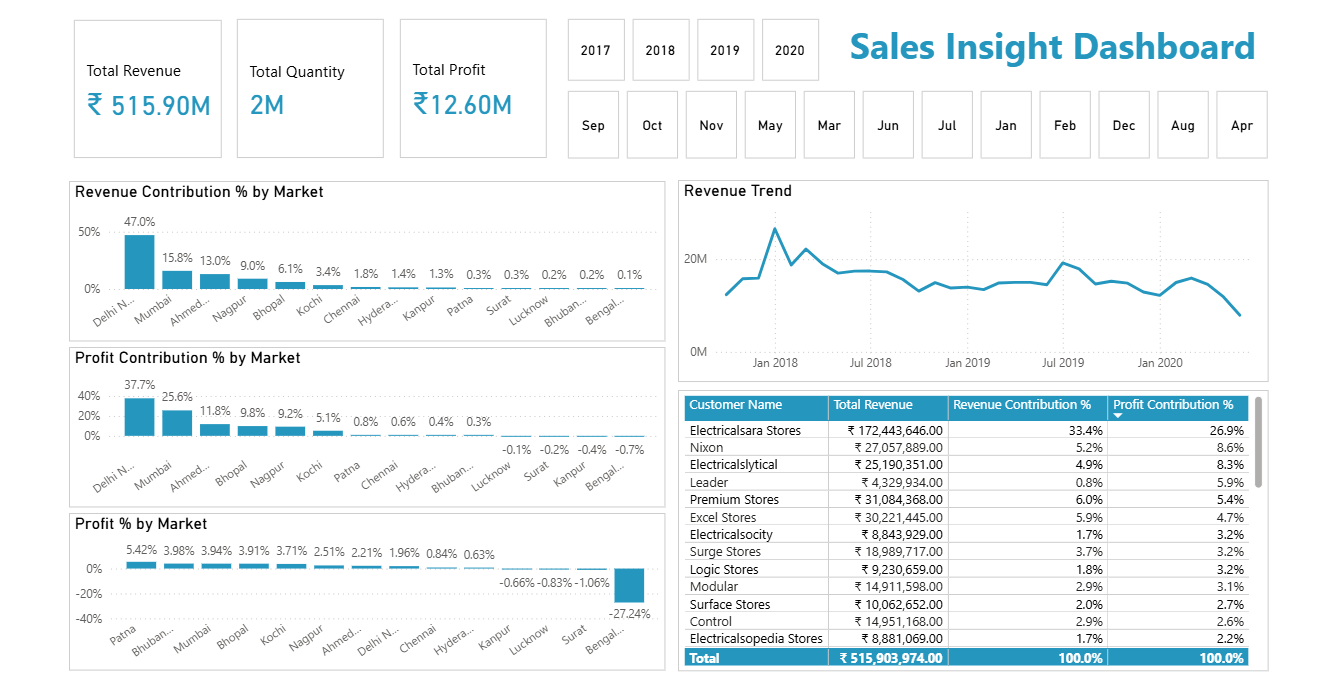

This screenshot's page, from the dashboard's own definition file:
{"tool":"powerbi","page":{"name":"Profit Analysis","canvas":[1280,720],"ordinal":1},"visuals":[{"type":"cardVisual","fields":{"Data":["sales_cleaned.Total Revenue"]},"box":[21.7,15,163.3,153.3],"z":0},{"type":"cardVisual","fields":{"Data":["sales sales_cleaned.sales_qty"]},"box":[190,14.3,162.9,154.3],"z":1000},{"type":"cardVisual","fields":{"Data":["sales_cleaned.Total Profit"]},"box":[358.6,14.3,162.9,154.3],"z":2000},{"type":"advancedSlicerVisual","fields":{"Values":["sales sales_cleaned.year"]},"box":[532.9,14.3,272.9,74.3],"z":3000},{"type":"advancedSlicerVisual","fields":{"Values":["sales sales_cleaned.month_name"]},"box":[532.9,88.6,740,80],"z":4000},{"type":"columnChart","title":"Revenue Contribution % by Market","fields":{"Category":["sales sales_cleaned.market_name"],"Y":["sales_cleaned.Revenue Contribution %"]},"box":[21.4,187.1,617.1,165.7],"z":5000},{"type":"lineChart","title":"Revenue Trend","fields":{"Y":["sales sales_cleaned.sales_amount"],"Category":["sales sales_cleaned.cy_date"]},"box":[651.2,186.2,611.2,208.8],"z":6000},{"type":"textbox","box":[816.7,15,446.7,73.3],"z":7000},{"type":"columnChart","title":"Profit Contribution % by Market","fields":{"Category":["sales sales_cleaned.market_name"],"Y":["sales_cleaned.Profit Contribution %"]},"box":[21.4,358.6,617.1,165.7],"z":8000},{"type":"columnChart","title":"Profit % by Market","fields":{"Category":["sales sales_cleaned.market_name"],"Y":["sales_cleaned.Profit Margin %"]},"box":[21.5,530.8,616.9,163.1],"z":9000},{"type":"tableEx","title":"Top 5 Customers","fields":{"Values":["sales_cleaned.customer_name","sales_cleaned.Total Revenue","sales_cleaned.Revenue Contribution %","sales_cleaned.Profit Contribution %"]},"box":[651.2,403.8,611.2,291.2],"z":10000}]}

Visuals, with their boxes on the page's 1280x720 design canvas (x1, y1, x2, y2). These are canvas units, not pixel positions in the 1330x693 screenshot, which may show the page scaled, cropped or inside an application window:
cardVisual - sales_cleaned.Total Revenue: 22 15 185 168
cardVisual - sales sales_cleaned.sales_qty: 190 14 353 169
cardVisual - sales_cleaned.Total Profit: 359 14 522 169
advancedSlicerVisual - sales sales_cleaned.year: 533 14 806 89
advancedSlicerVisual - sales sales_cleaned.month_name: 533 89 1273 169
"Revenue Contribution % by Market" columnChart: 21 187 638 353
"Revenue Trend" lineChart: 651 186 1262 395
textbox: 817 15 1263 88
"Profit Contribution % by Market" columnChart: 21 359 638 524
"Profit % by Market" columnChart: 22 531 638 694
"Top 5 Customers" tableEx: 651 404 1262 695
